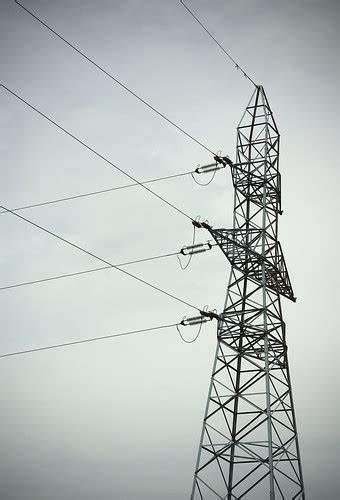power_tower: (180, 84, 315, 500)
